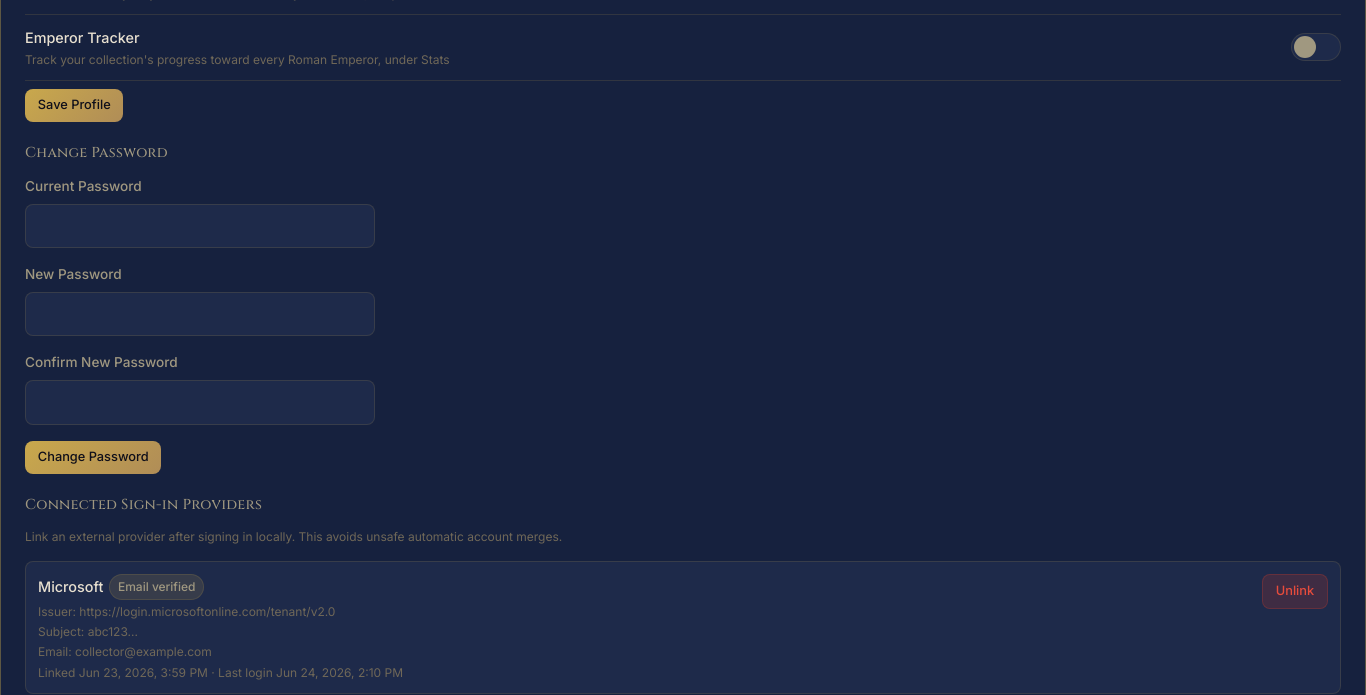
Test: SettingsAccountSection OIDC identities › distinguishes unlink safety conflicts from missing identities
(page scrolled)
Click the button "Unlink": (1295, 591) [1262,574,1328,609]
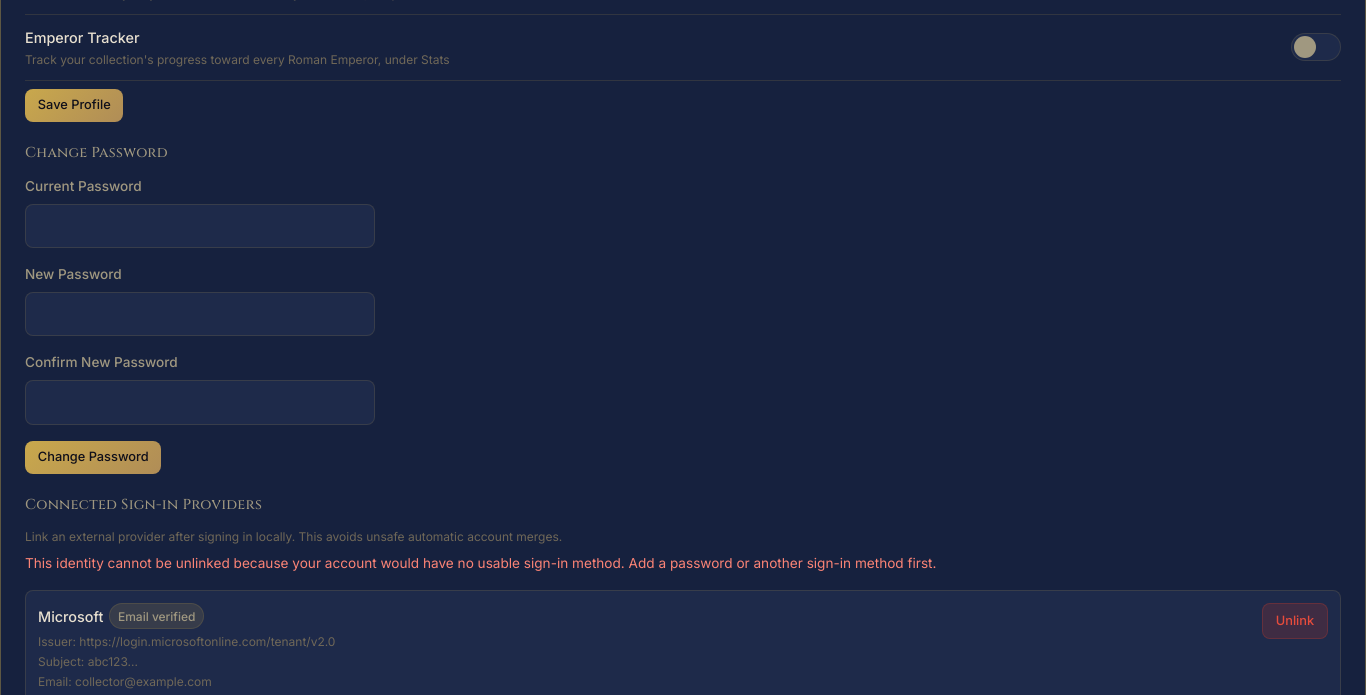
Expected: the text "no usable sign-in method" is shown, [25,555,936,571]
Click the button "Unlink": (1295, 621) [1262,603,1328,639]
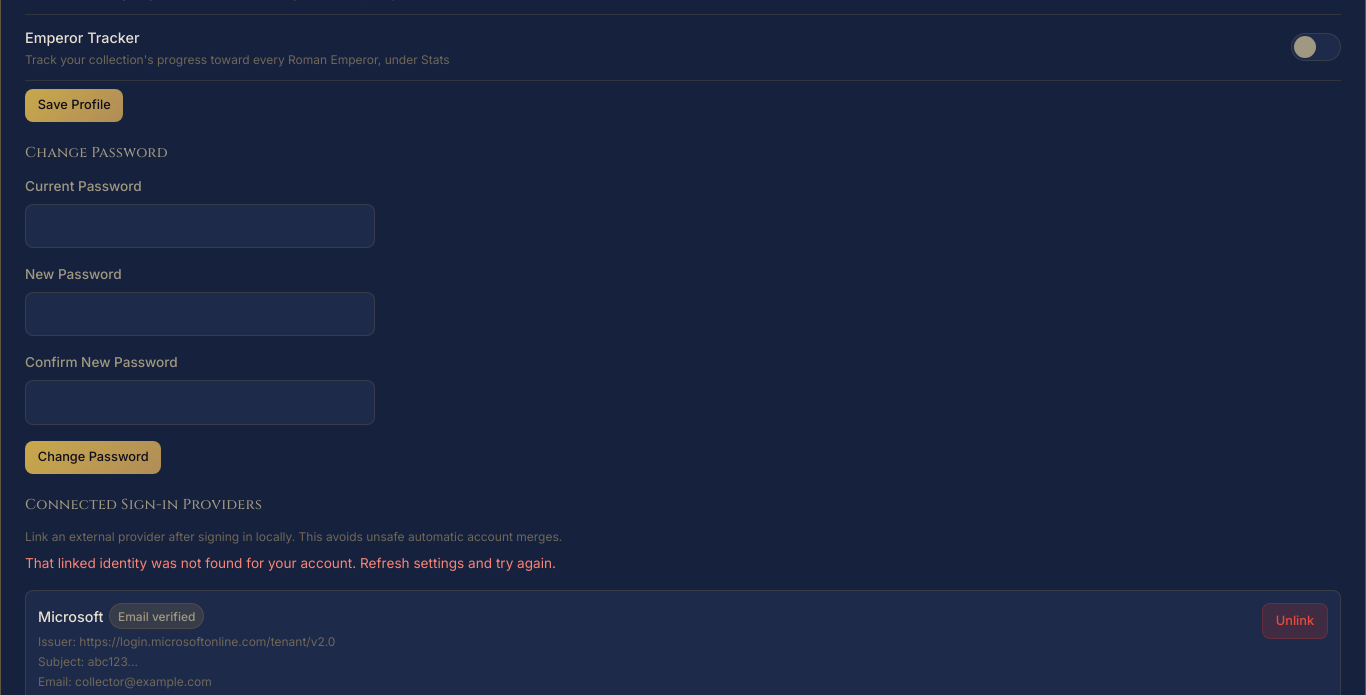
Expected: the text "not found for your account" is shown, [25,555,556,571]
